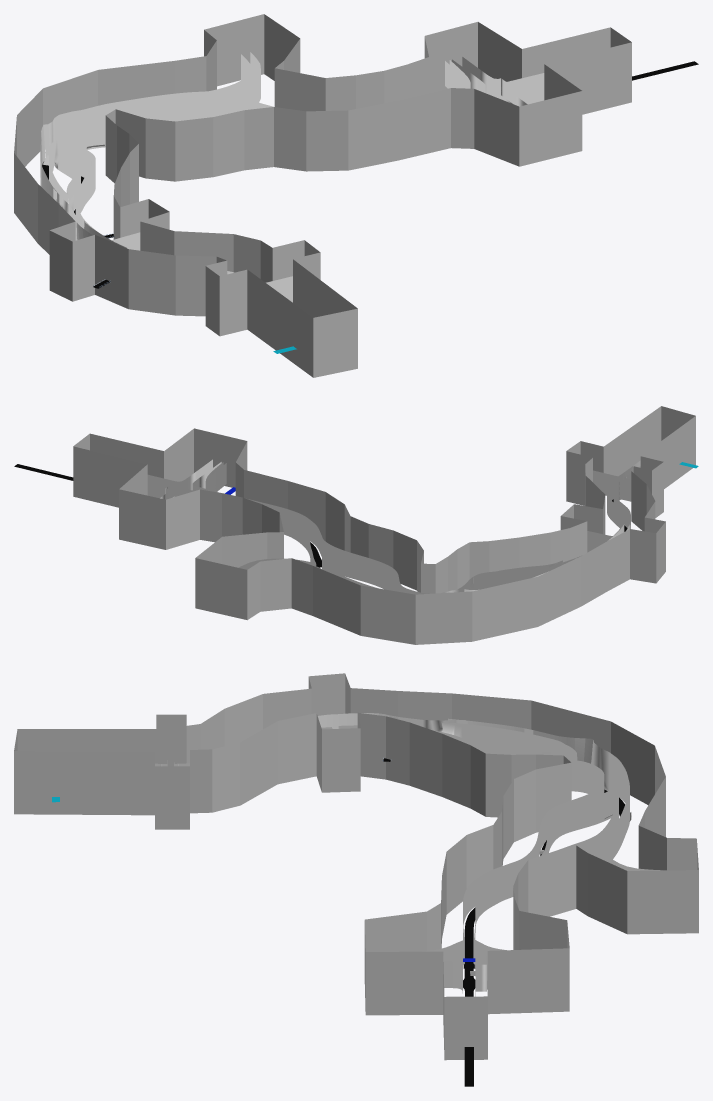
Rendered from track.fbx.
3 renders of one model, top to bottom at view 1: azimuth 30°, elevation 25°; view 2: azimuth 150°, elevation 25°; view 3: azimuth 270°, elevation 25°, orthographic. The views are drawn at different scales.
Parts seen in each view (by area): view 1: Sky, wall; view 2: Sky, wall, road; view 3: Sky, wall, road, wall3.
Part boxes in pixels (x1,y1,x2,y2): Sky: [14, 14, 631, 377]; wall: [40, 52, 544, 302]; Sky: [73, 406, 695, 644]; wall: [147, 459, 640, 594]; road: [14, 464, 627, 567]; Sky: [14, 673, 698, 1060]; wall: [155, 715, 662, 996]; road: [463, 789, 624, 1086]; wall3: [533, 730, 593, 763].
Size of the model in its own units: 38.12 by 3.1 by 30.41.
